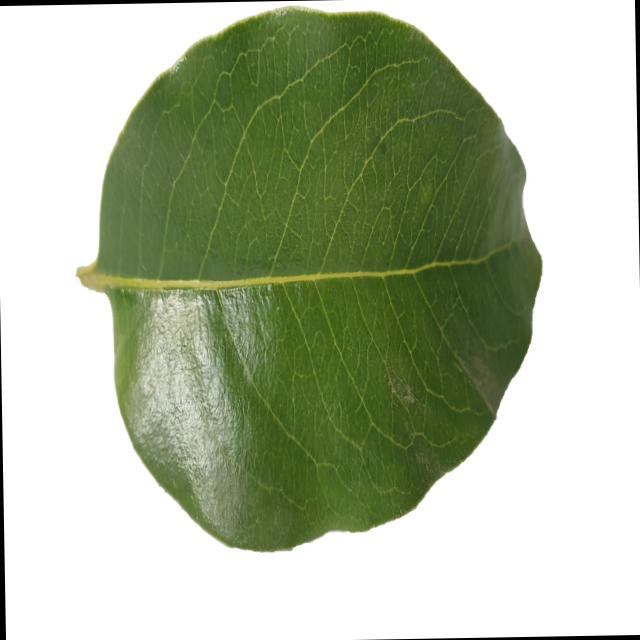Medicinal-Sandalwood: (74, 0, 548, 554)
